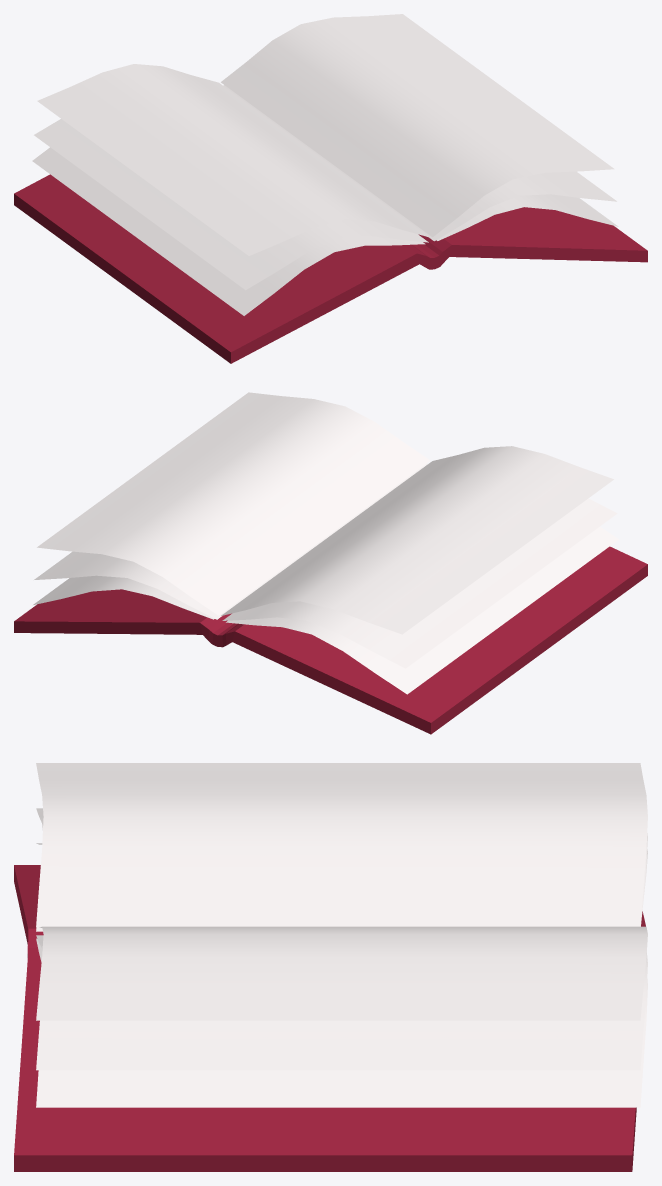
The model's file is llibre-volador.gltf.
The picture shows the model from 3 angles, top to bottom: view 1: azimuth 30°, elevation 25°; view 2: azimuth 150°, elevation 25°; view 3: azimuth 270°, elevation 25°; orthographic projection. The views are drawn at different scales.
Parts seen in each view (by area): view 1: Plane.003, Plane; view 2: Plane.003, Plane; view 3: Plane.003, Plane.
Boxes of the visible parts, x1,y1,x2,y2 form: Plane.003: [32, 14, 618, 315]; Plane: [14, 174, 647, 363]; Plane.003: [33, 392, 618, 694]; Plane: [14, 546, 647, 734]; Plane.003: [36, 763, 647, 1107]; Plane: [14, 865, 645, 1171].
Bounding box in the file's own units: 2.22 × 0.5433 × 2.05.
